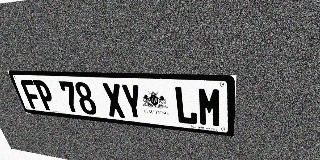7: (57, 81, 82, 114)
8: (73, 82, 98, 115)
F: (19, 80, 44, 110)
L: (173, 86, 198, 125)
M: (197, 87, 222, 128)
P: (33, 80, 57, 111)
X: (101, 83, 126, 118)
Y: (120, 84, 145, 120)
